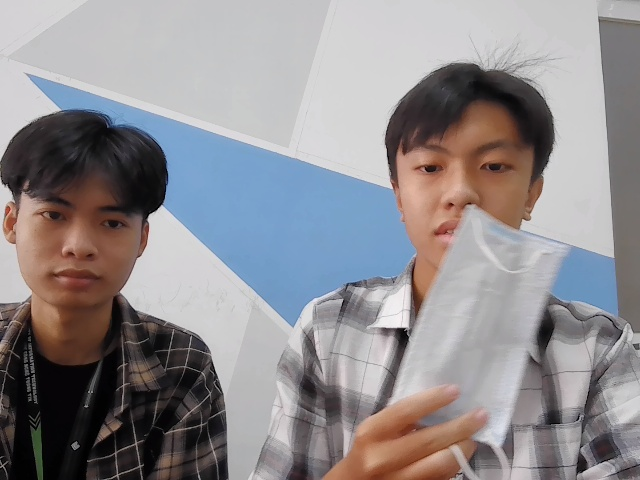human: (373, 52, 561, 279), (3, 105, 185, 312)
mask: (397, 202, 561, 432)
